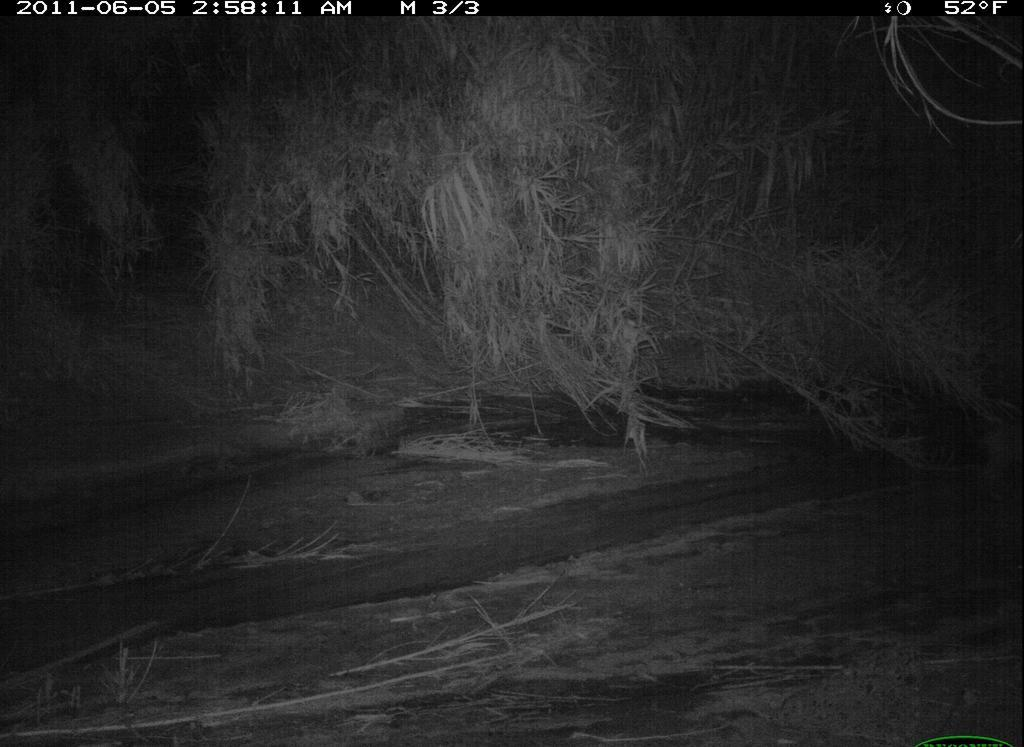bobcat: (973, 414, 1024, 505)
